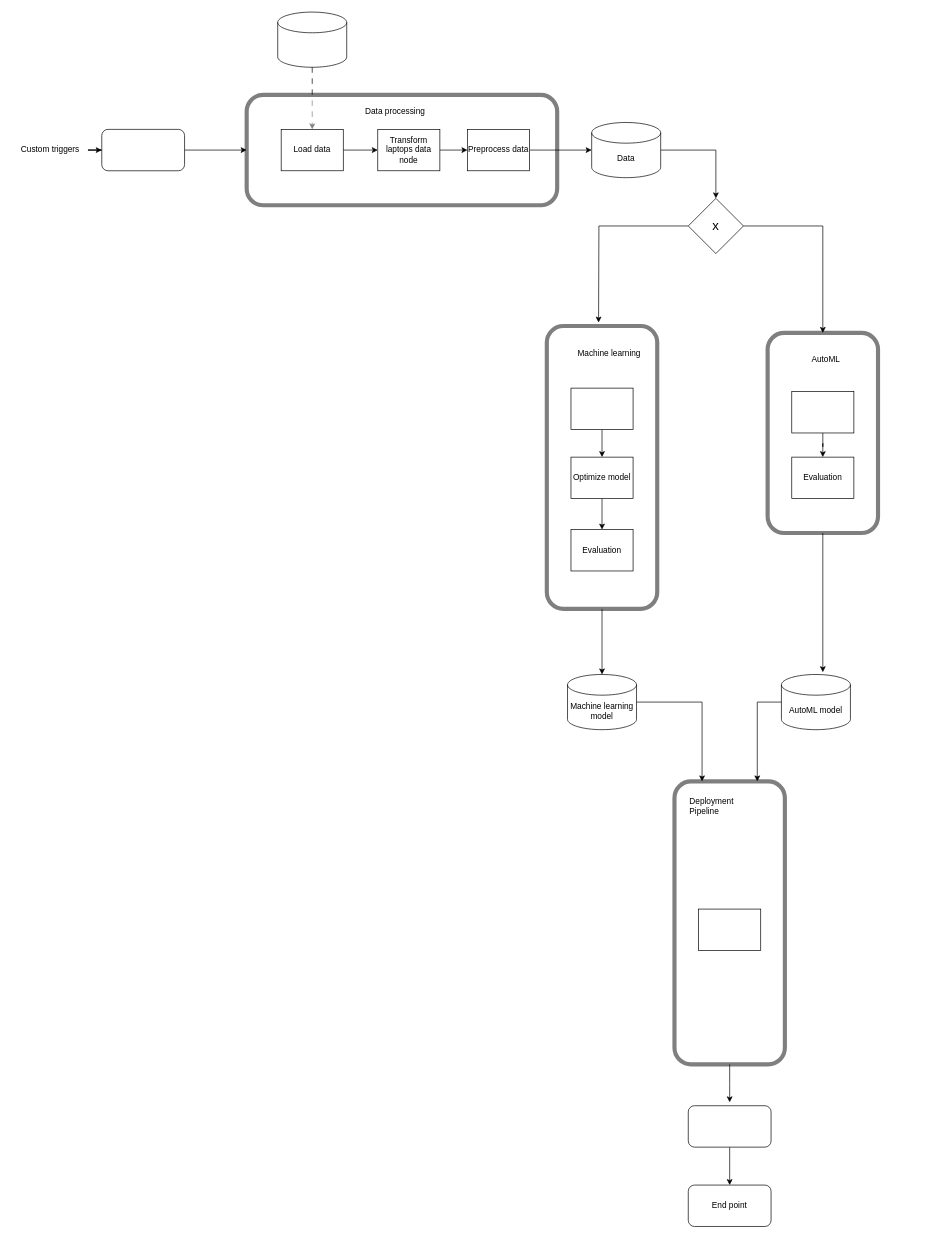
This 946x1239 diagram has some shape labels left out. Here are the shapes that lost their labels. From the top down, the box of each, then its label:
(277, 11, 347, 67): Laptops data for model
(101, 129, 185, 171): Trigger
(570, 387, 633, 430): Train machine learning model
(791, 391, 854, 433): Train model
(698, 908, 761, 950): Models comparision
(688, 1105, 771, 1147): Best Model
